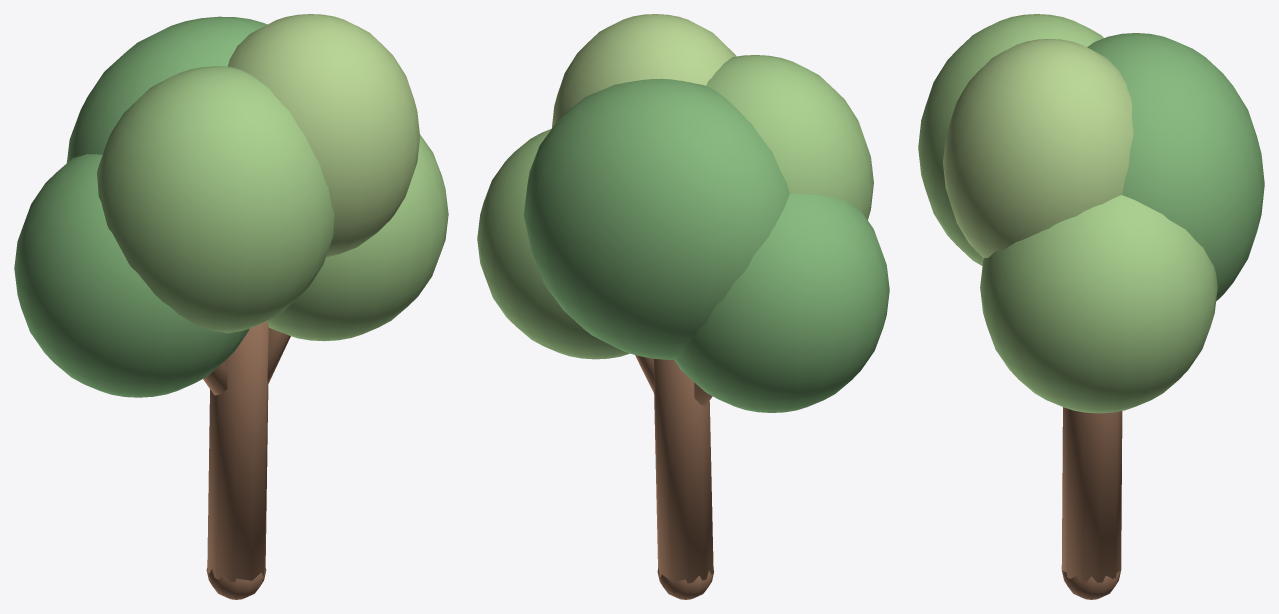
File: tree.glb
The picture shows the model from 3 angles, left to right: view 1: azimuth 30°, elevation 25°; view 2: azimuth 150°, elevation 25°; view 3: azimuth 270°, elevation 25°; orthographic projection. The views are drawn at different scales.
Visible parts, largest first — view 1: tree; view 2: tree; view 3: tree.
Boxes of the visible parts, box(x1,y1,x2,y2) form: tree: box(14, 14, 448, 599); tree: box(477, 14, 889, 599); tree: box(918, 14, 1264, 599).
Bounding box in the file's own units: 1.87 × 2.56 × 1.4.
